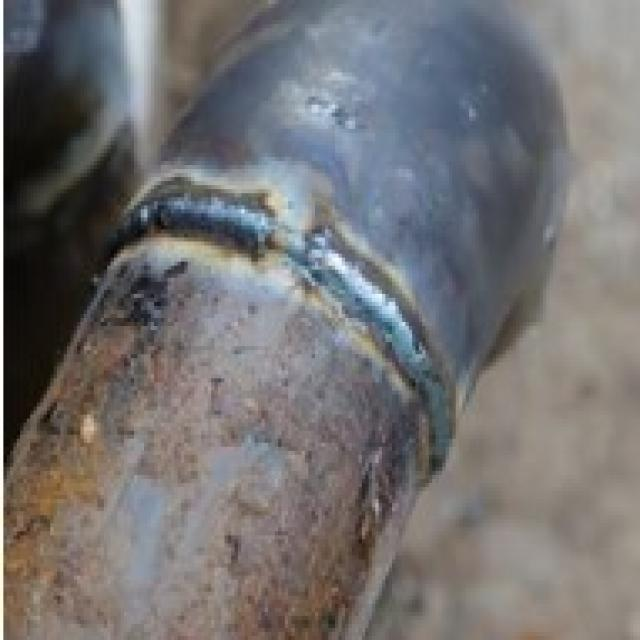Bad Weld: (107, 181, 459, 467)
